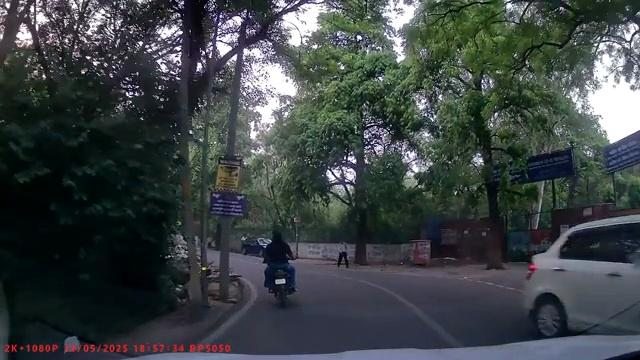motorcycle_without_helmet: (261, 229, 299, 307)
